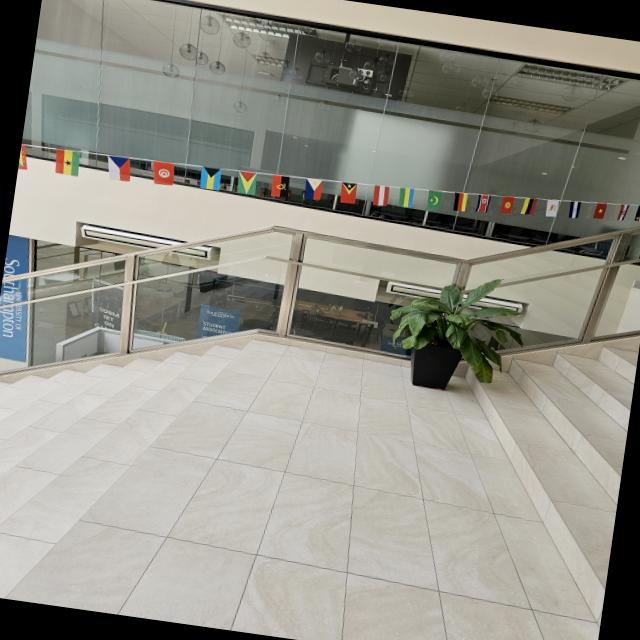footpath: (0, 331, 625, 640)
obstacle: (374, 275, 516, 402)
